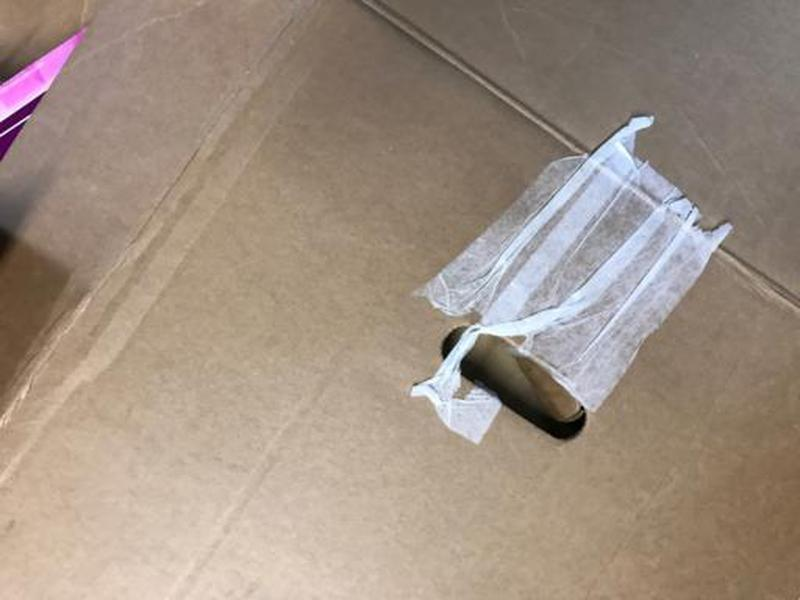cardboard: (2, 1, 800, 600)
